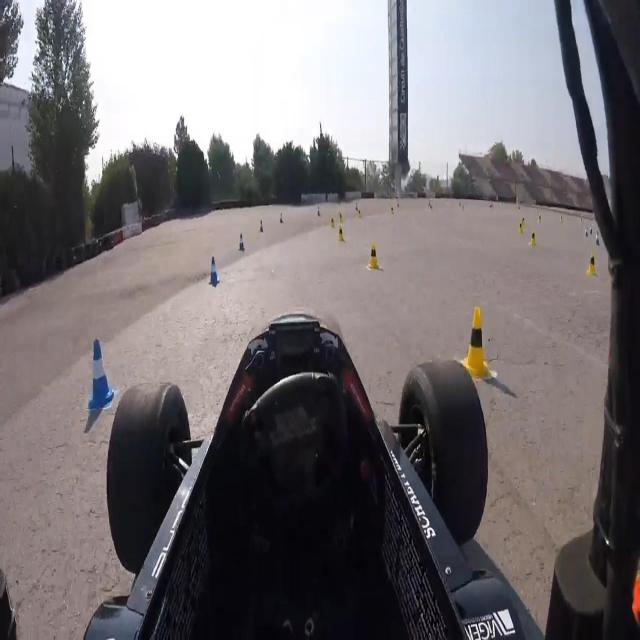blue_cone: (84, 335, 115, 413), (208, 255, 220, 286), (238, 232, 244, 252), (595, 228, 600, 246), (258, 220, 264, 234), (278, 211, 284, 224), (584, 226, 590, 239), (316, 206, 320, 217)
yellow_cone: (457, 307, 497, 382), (367, 243, 381, 271), (586, 252, 597, 276), (528, 229, 537, 247), (338, 225, 346, 243), (329, 214, 336, 229), (338, 211, 345, 225), (518, 219, 524, 233), (537, 213, 542, 223), (522, 214, 526, 225), (560, 213, 563, 222)
